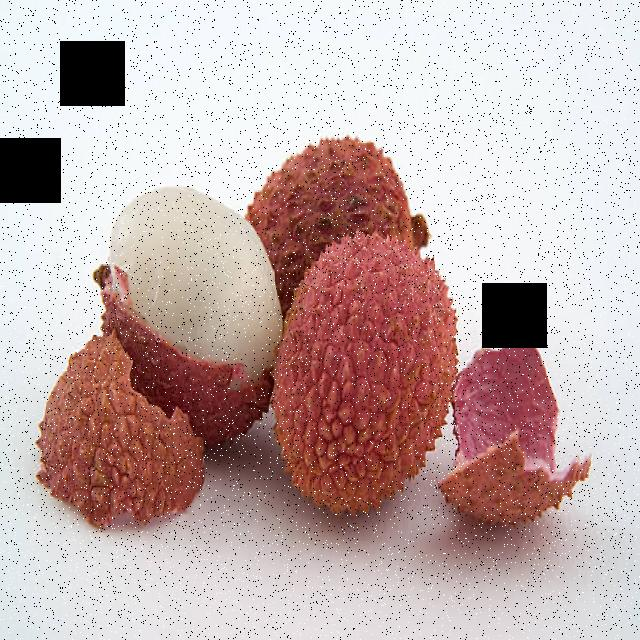lychee: (95, 133, 455, 544)
